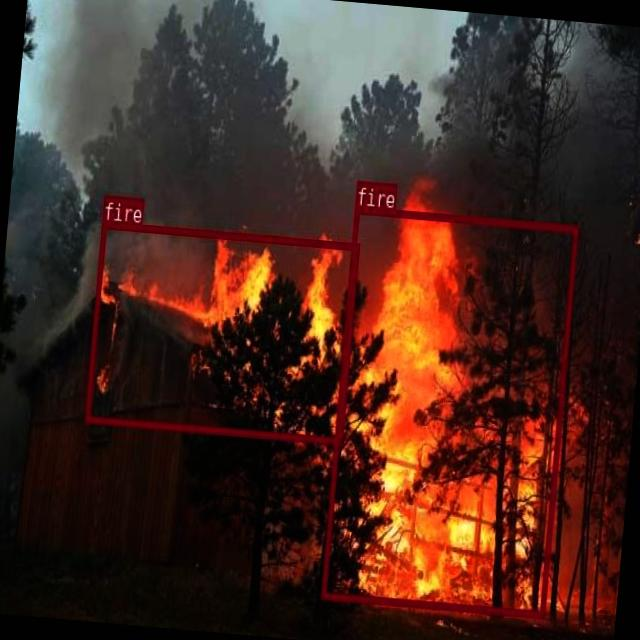fire: (320, 205, 577, 616), (83, 220, 358, 442)
